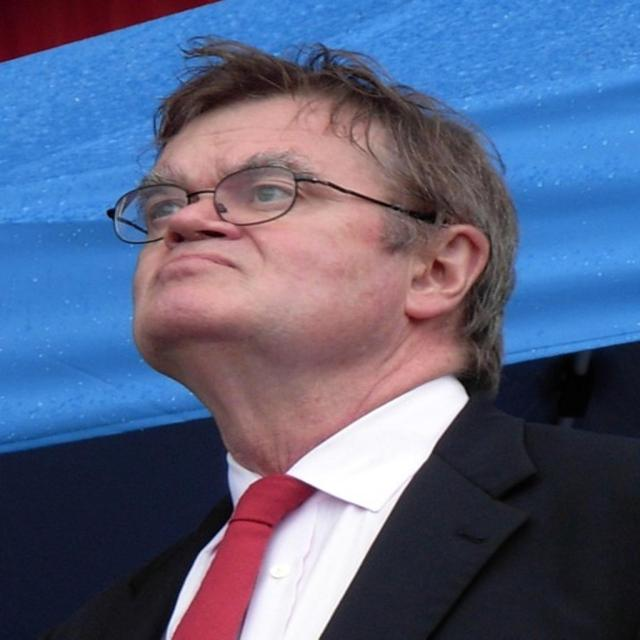Face: (127, 86, 426, 365)
